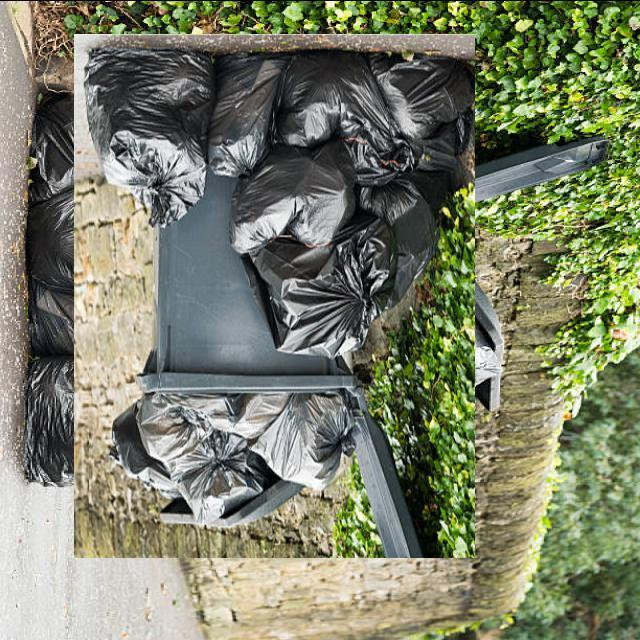Trashbag: (70, 54, 213, 241), (255, 252, 387, 356), (266, 48, 387, 134), (248, 158, 356, 248), (199, 52, 266, 186), (264, 398, 358, 486), (382, 172, 434, 320), (178, 451, 264, 535), (388, 46, 470, 132), (124, 377, 208, 448)
